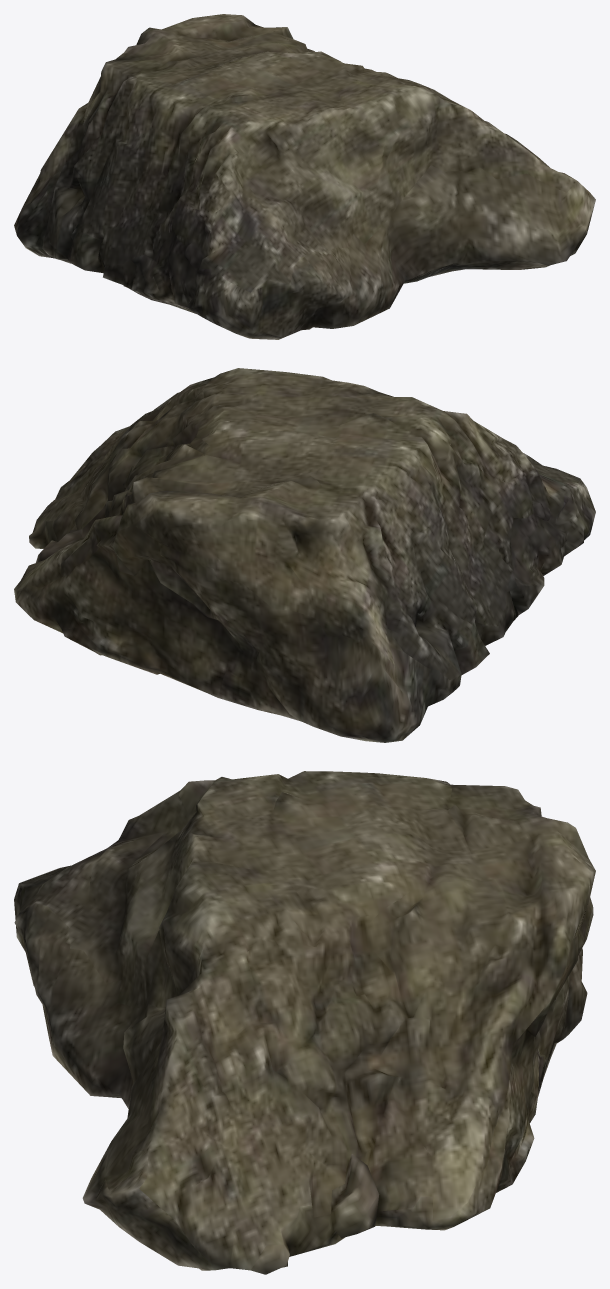
Rendered from rock8.glb.
3 renders of one model, top to bottom at view 1: azimuth 30°, elevation 25°; view 2: azimuth 150°, elevation 25°; view 3: azimuth 270°, elevation 25°, orthographic. The views are drawn at different scales.
Parts seen in each view (by area): view 1: rock_moss_set_02_rock08; view 2: rock_moss_set_02_rock08; view 3: rock_moss_set_02_rock08.
Boxes of the visible parts, x1,y1,x2,y2 form: rock_moss_set_02_rock08: (14, 14, 595, 339); rock_moss_set_02_rock08: (14, 368, 595, 742); rock_moss_set_02_rock08: (14, 771, 595, 1274).
Bounding box in the file's own units: 1.6 × 0.6967 × 1.3.
1 material, 1 textured.
